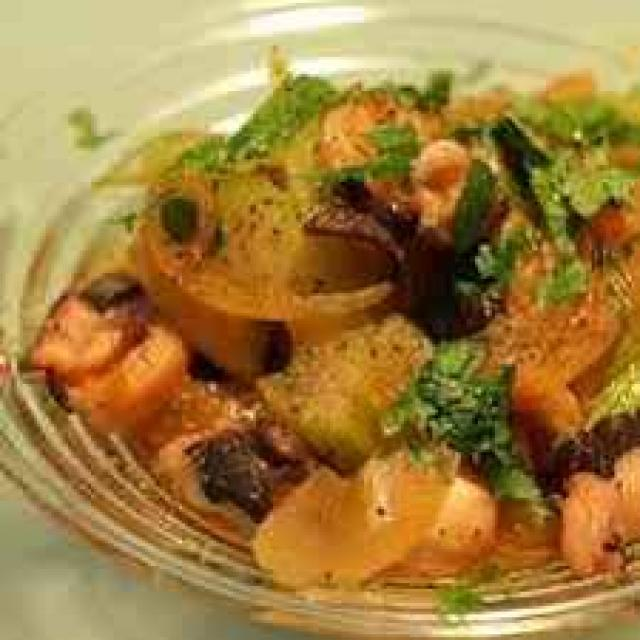organic waste: (17, 43, 637, 583), (122, 82, 566, 370), (142, 142, 390, 313), (441, 222, 626, 404), (250, 318, 427, 466), (242, 461, 446, 586), (381, 342, 538, 504), (145, 376, 293, 529), (526, 145, 637, 307), (165, 54, 321, 165), (17, 267, 148, 387), (65, 316, 182, 418), (404, 450, 492, 583), (196, 415, 310, 515), (558, 449, 637, 569), (506, 91, 637, 154), (486, 484, 566, 563), (327, 122, 424, 182), (446, 156, 501, 245), (406, 54, 464, 114), (538, 68, 603, 117), (469, 227, 532, 276), (162, 185, 208, 247), (66, 100, 122, 145)
